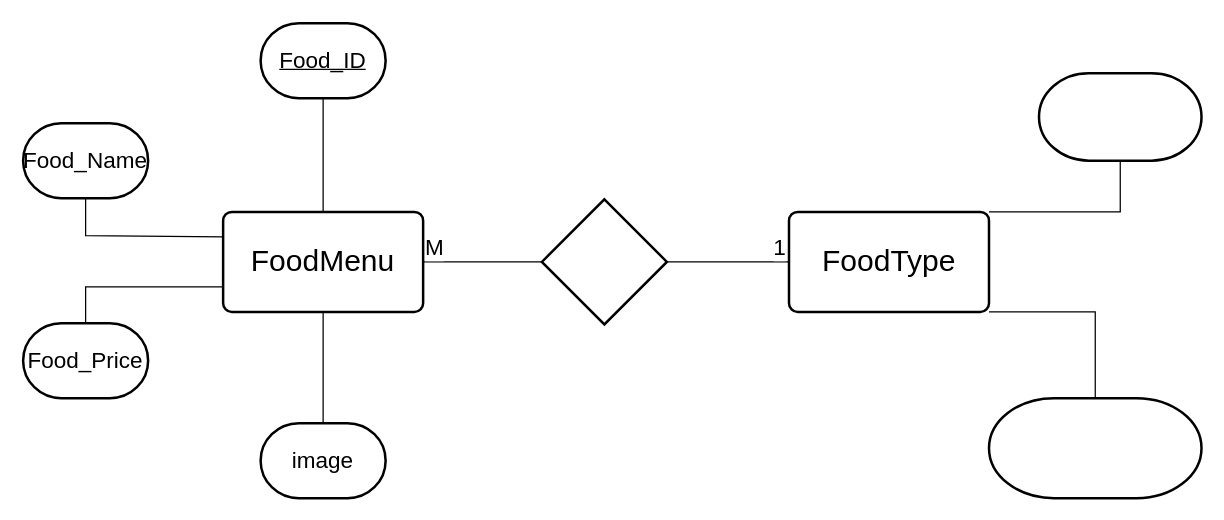
Image size: 1224x520. Some labels were removed from this diagram. The centre of each missing label's shape, as x and y in pixels:
"FoodType_ID" goes at (1119,116).
"FoodType_Name" goes at (1094,447).
"Have" goes at (604,261).
